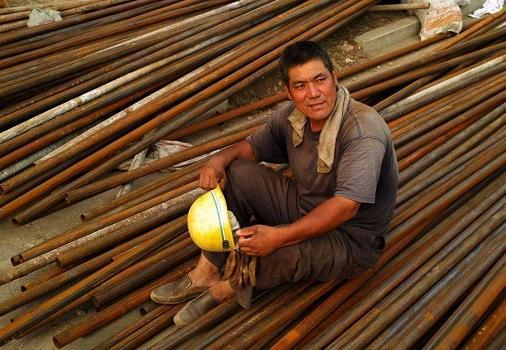helmet: (167, 183, 249, 260)
no-gloves: (235, 215, 288, 258), (193, 157, 231, 190)
no-helmet: (274, 45, 341, 85)
no-shoes: (178, 285, 243, 324), (148, 260, 216, 296)
no-vest: (283, 109, 390, 222)
person: (159, 37, 411, 337)
